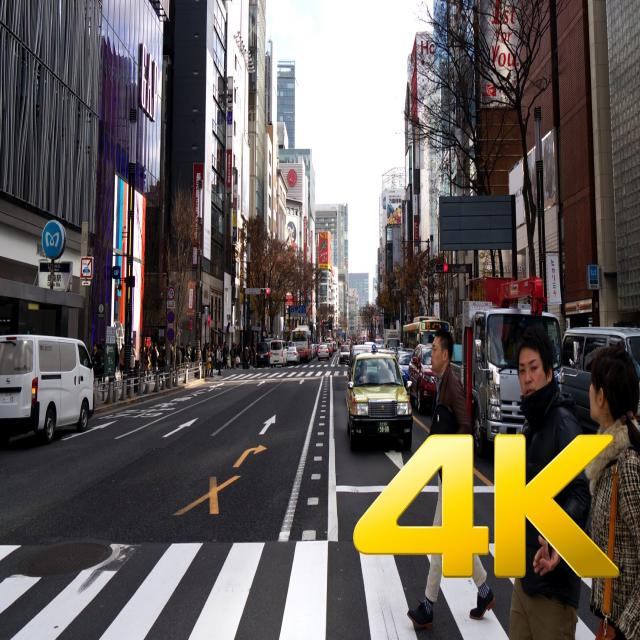body: (531, 342, 640, 639), (405, 325, 497, 633), (506, 324, 592, 640), (311, 331, 372, 348), (97, 337, 120, 381), (90, 342, 102, 377), (378, 356, 392, 382), (356, 360, 371, 384), (242, 344, 255, 369), (156, 347, 164, 387), (151, 342, 158, 383), (199, 342, 209, 369), (143, 345, 150, 383), (204, 346, 212, 378), (119, 343, 125, 381), (222, 342, 230, 370), (161, 343, 167, 379), (139, 342, 145, 372), (210, 348, 216, 378), (148, 341, 154, 370), (170, 341, 176, 368), (179, 342, 186, 364), (175, 345, 183, 364), (218, 346, 223, 376), (229, 344, 235, 369), (235, 343, 241, 368), (209, 342, 224, 351), (224, 341, 229, 367), (216, 344, 222, 364), (233, 343, 237, 370), (132, 343, 138, 360), (184, 342, 189, 360), (187, 344, 191, 363), (191, 345, 195, 363), (156, 346, 160, 362), (131, 342, 136, 354), (213, 350, 216, 369), (230, 342, 234, 348)
